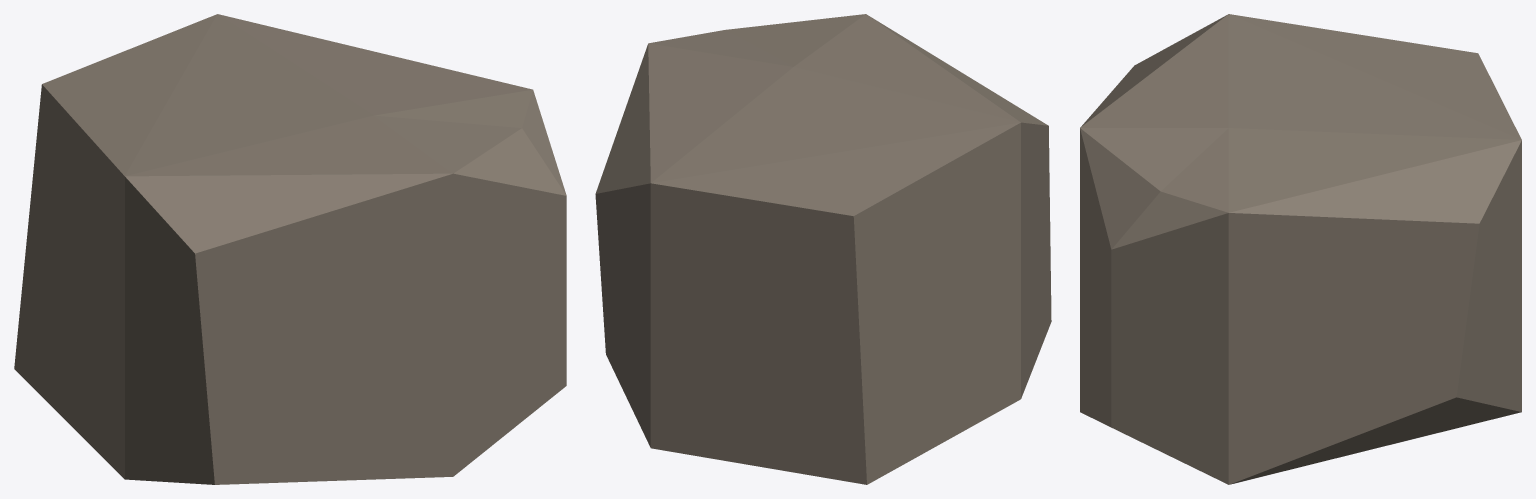
File: SM_Env_Rock_01.glb
The picture shows the model from 3 angles, left to right: view 1: azimuth 30°, elevation 25°; view 2: azimuth 150°, elevation 25°; view 3: azimuth 270°, elevation 25°; orthographic projection. The views are drawn at different scales.
Visible parts, largest first — view 1: SM_Env_Rock_01; view 2: SM_Env_Rock_01; view 3: SM_Env_Rock_01.
Part boxes in pixels (<box>): SM_Env_Rock_01: <box>14,14,566,484</box>; SM_Env_Rock_01: <box>595,14,1051,484</box>; SM_Env_Rock_01: <box>1080,14,1521,484</box>.
Size of the model in its own units: 1.13 by 0.8315 by 1.13.
Materials: 1 (1 with a texture image).
